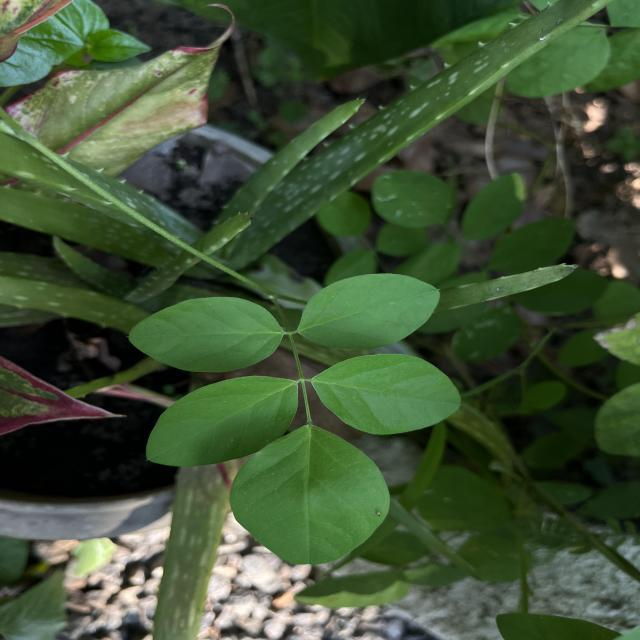Clitoria ternatea: (228, 424, 391, 566), (145, 375, 300, 468), (310, 352, 463, 436), (127, 296, 286, 374), (296, 272, 441, 351)
